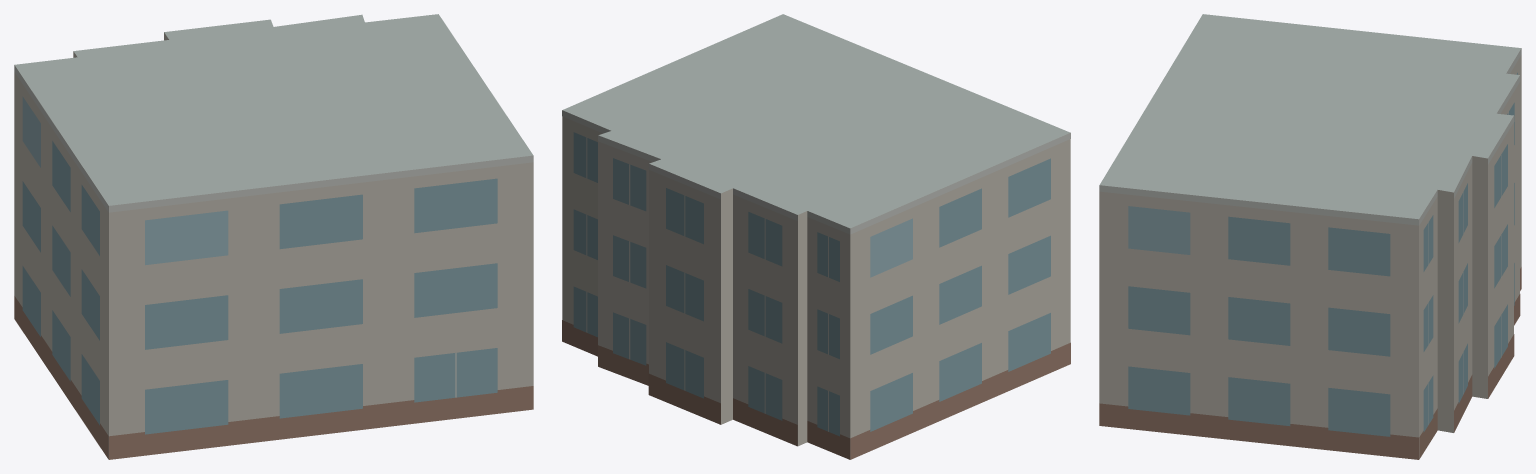
Rendered from survey-upis-32821541.glb.
3 views of the same model, side by side, from view 1: azimuth 30°, elevation 25°; view 2: azimuth 150°, elevation 25°; view 3: azimuth 270°, elevation 25° (orthographic). The views are drawn at different scales.
Visible parts, largest first — view 1: survey-upis-32821541.tmp; view 2: survey-upis-32821541.tmp; view 3: survey-upis-32821541.tmp.
Boxes of the visible parts, box(x1,y1,x2,y2) form: survey-upis-32821541.tmp: box(14, 14, 533, 459); survey-upis-32821541.tmp: box(562, 14, 1070, 459); survey-upis-32821541.tmp: box(1099, 14, 1521, 459).
Bounding box in the file's own units: 16.75 × 9.15 × 14.56.
